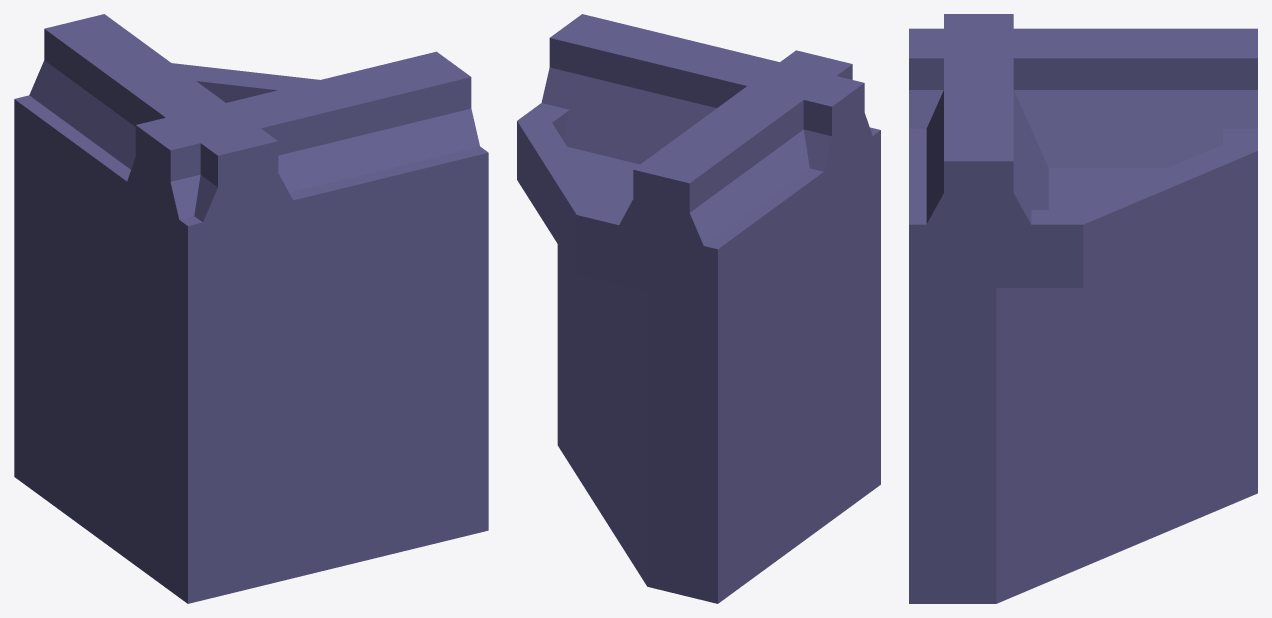
File: wall_corner.glb
The picture shows the model from 3 angles, left to right: view 1: azimuth 30°, elevation 25°; view 2: azimuth 150°, elevation 25°; view 3: azimuth 270°, elevation 25°; orthographic projection. The views are drawn at different scales.
Parts seen in each view (by area): view 1: mergedBlocks(Clone); view 2: mergedBlocks(Clone); view 3: mergedBlocks(Clone).
Boxes of the visible parts, x1,y1,x2,y2 form: mergedBlocks(Clone): (14,14,488,603); mergedBlocks(Clone): (517,14,880,603); mergedBlocks(Clone): (909,14,1257,603).
Bounding box in the file's own units: 1 × 1.4 × 1.
1 material, 1 textured.
